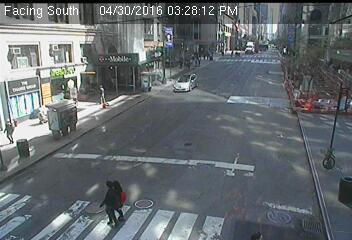neg: (238, 74, 264, 108), (300, 76, 326, 110), (178, 71, 198, 98), (137, 64, 157, 90)
pos: (1, 117, 18, 142), (94, 83, 109, 104)
